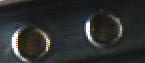joints: (82, 9, 125, 48), (11, 22, 52, 61)
